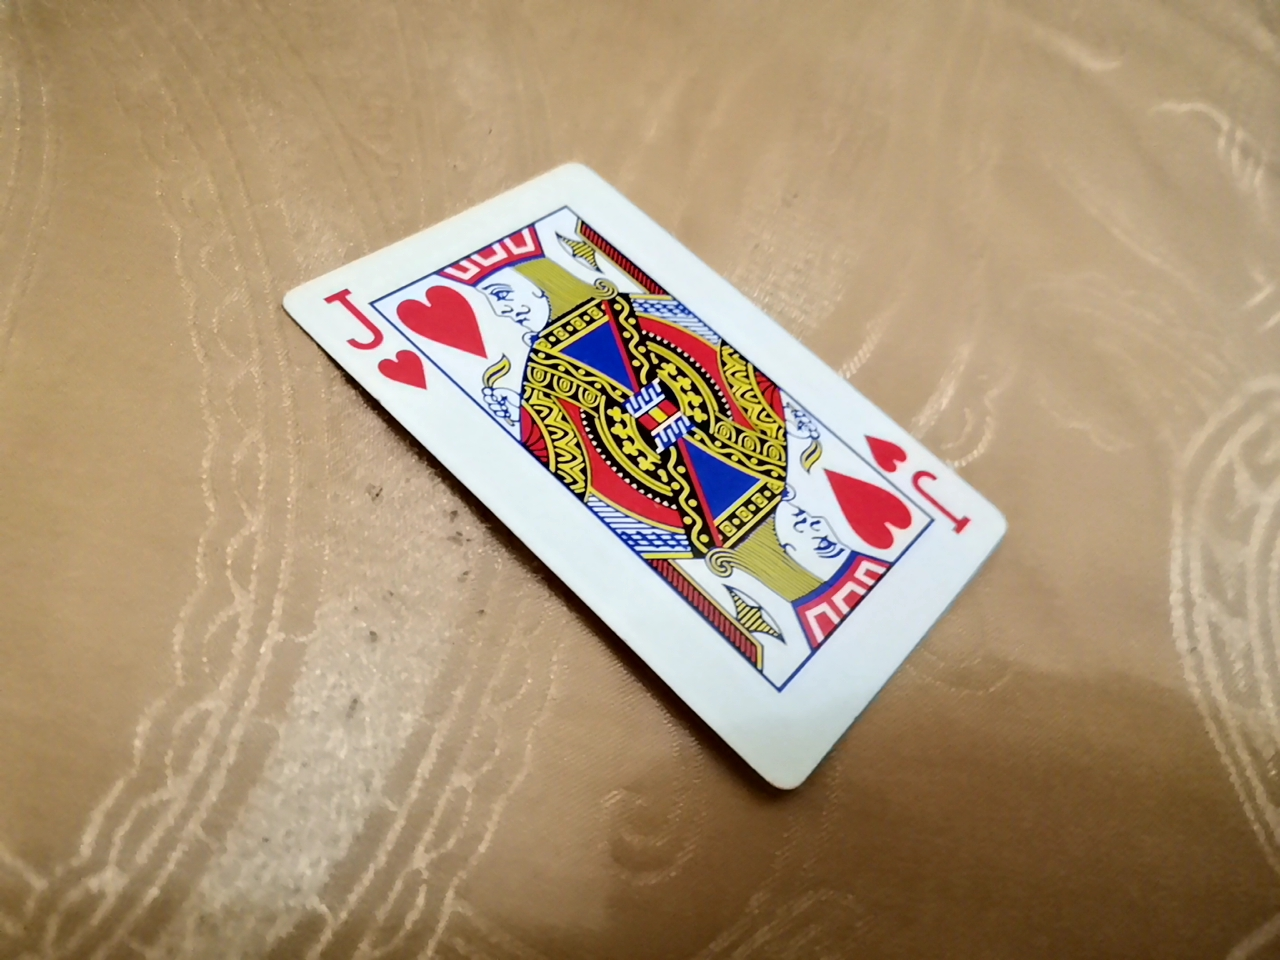hx j: (263, 156, 1053, 789)
